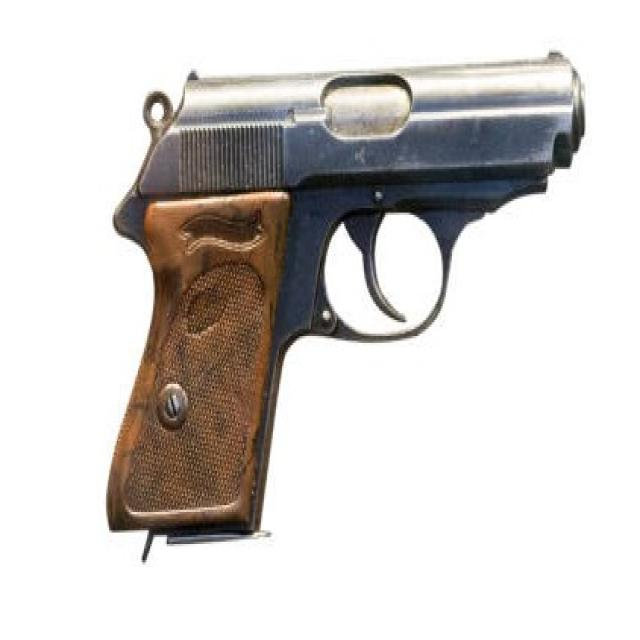pistol: (101, 31, 591, 573)
